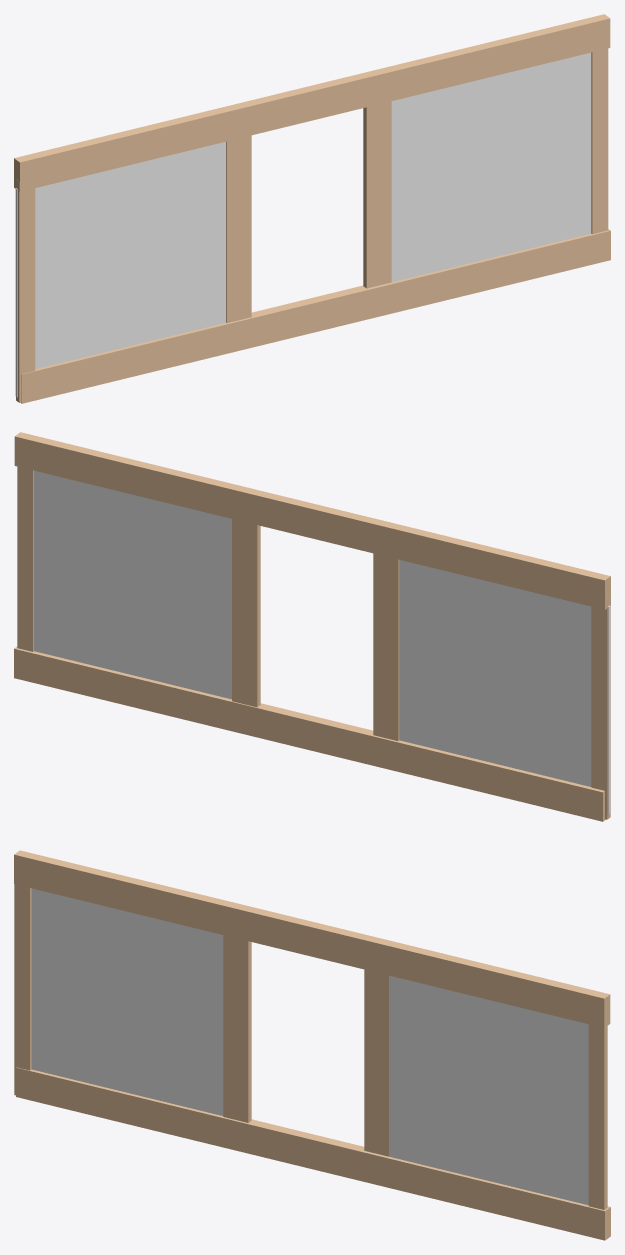
Rendered from loidi.fbx.
The picture shows the model from 3 angles, top to bottom: view 1: azimuth 30°, elevation 25°; view 2: azimuth 150°, elevation 25°; view 3: azimuth 330°, elevation 25°; orthographic projection.
Parts seen in each view (by area): view 1: Cube.033, Cube, Cube.031, Cube.005, Cube.032, Cube.028, Cube.029, Cube.026, Cube.034, Cube.003; view 2: Cube.033, Cube, Cube.005, Cube.031, Cube.032, Cube.028, Cube.029, Cube.026, Cube.034, Cube.003; view 3: Cube.033, Cube, Cube.032, Cube.031, Cube.005, Cube.028, Cube.026, Cube.029, Cube.003, Cube.034.
Part boxes in pixels (left/top/right/bottom): Cube.033: left=391, top=52, right=591, bottom=282; Cube: left=15, top=141, right=225, bottom=397; Cube.031: left=279, top=14, right=610, bottom=126; Cube.005: left=14, top=82, right=330, bottom=191; Cube.032: left=251, top=229, right=610, bottom=337; Cube.028: left=21, top=308, right=293, bottom=403; Cube.029: left=363, top=101, right=391, bottom=288; Cube.026: left=226, top=135, right=251, bottom=322; Cube.034: left=16, top=179, right=35, bottom=402; Cube.003: left=591, top=48, right=608, bottom=234; Cube.033: left=34, top=470, right=231, bottom=699; Cube: left=399, top=560, right=609, bottom=814; Cube.005: left=294, top=500, right=610, bottom=609; Cube.031: left=14, top=432, right=339, bottom=544; Cube.032: left=14, top=646, right=373, bottom=755; Cube.028: left=331, top=726, right=605, bottom=821; Cube.029: left=232, top=519, right=260, bottom=707; Cube.026: left=373, top=553, right=399, bottom=740; Cube.034: left=591, top=596, right=610, bottom=819; Cube.003: left=17, top=466, right=33, bottom=651; Cube.033: left=389, top=976, right=588, bottom=1205; Cube: left=31, top=888, right=223, bottom=1115; Cube.032: left=248, top=1120, right=610, bottom=1240; Cube.031: left=279, top=915, right=610, bottom=1027; Cube.005: left=14, top=850, right=330, bottom=959; Cube.028: left=16, top=1067, right=289, bottom=1162; Cube.026: left=223, top=935, right=251, bottom=1122; Cube.029: left=364, top=969, right=389, bottom=1156; Cube.003: left=588, top=1024, right=607, bottom=1209; Cube.034: left=14, top=884, right=31, bottom=1095.
Size of the model in its own units: 17688 by 6905 by 306.
